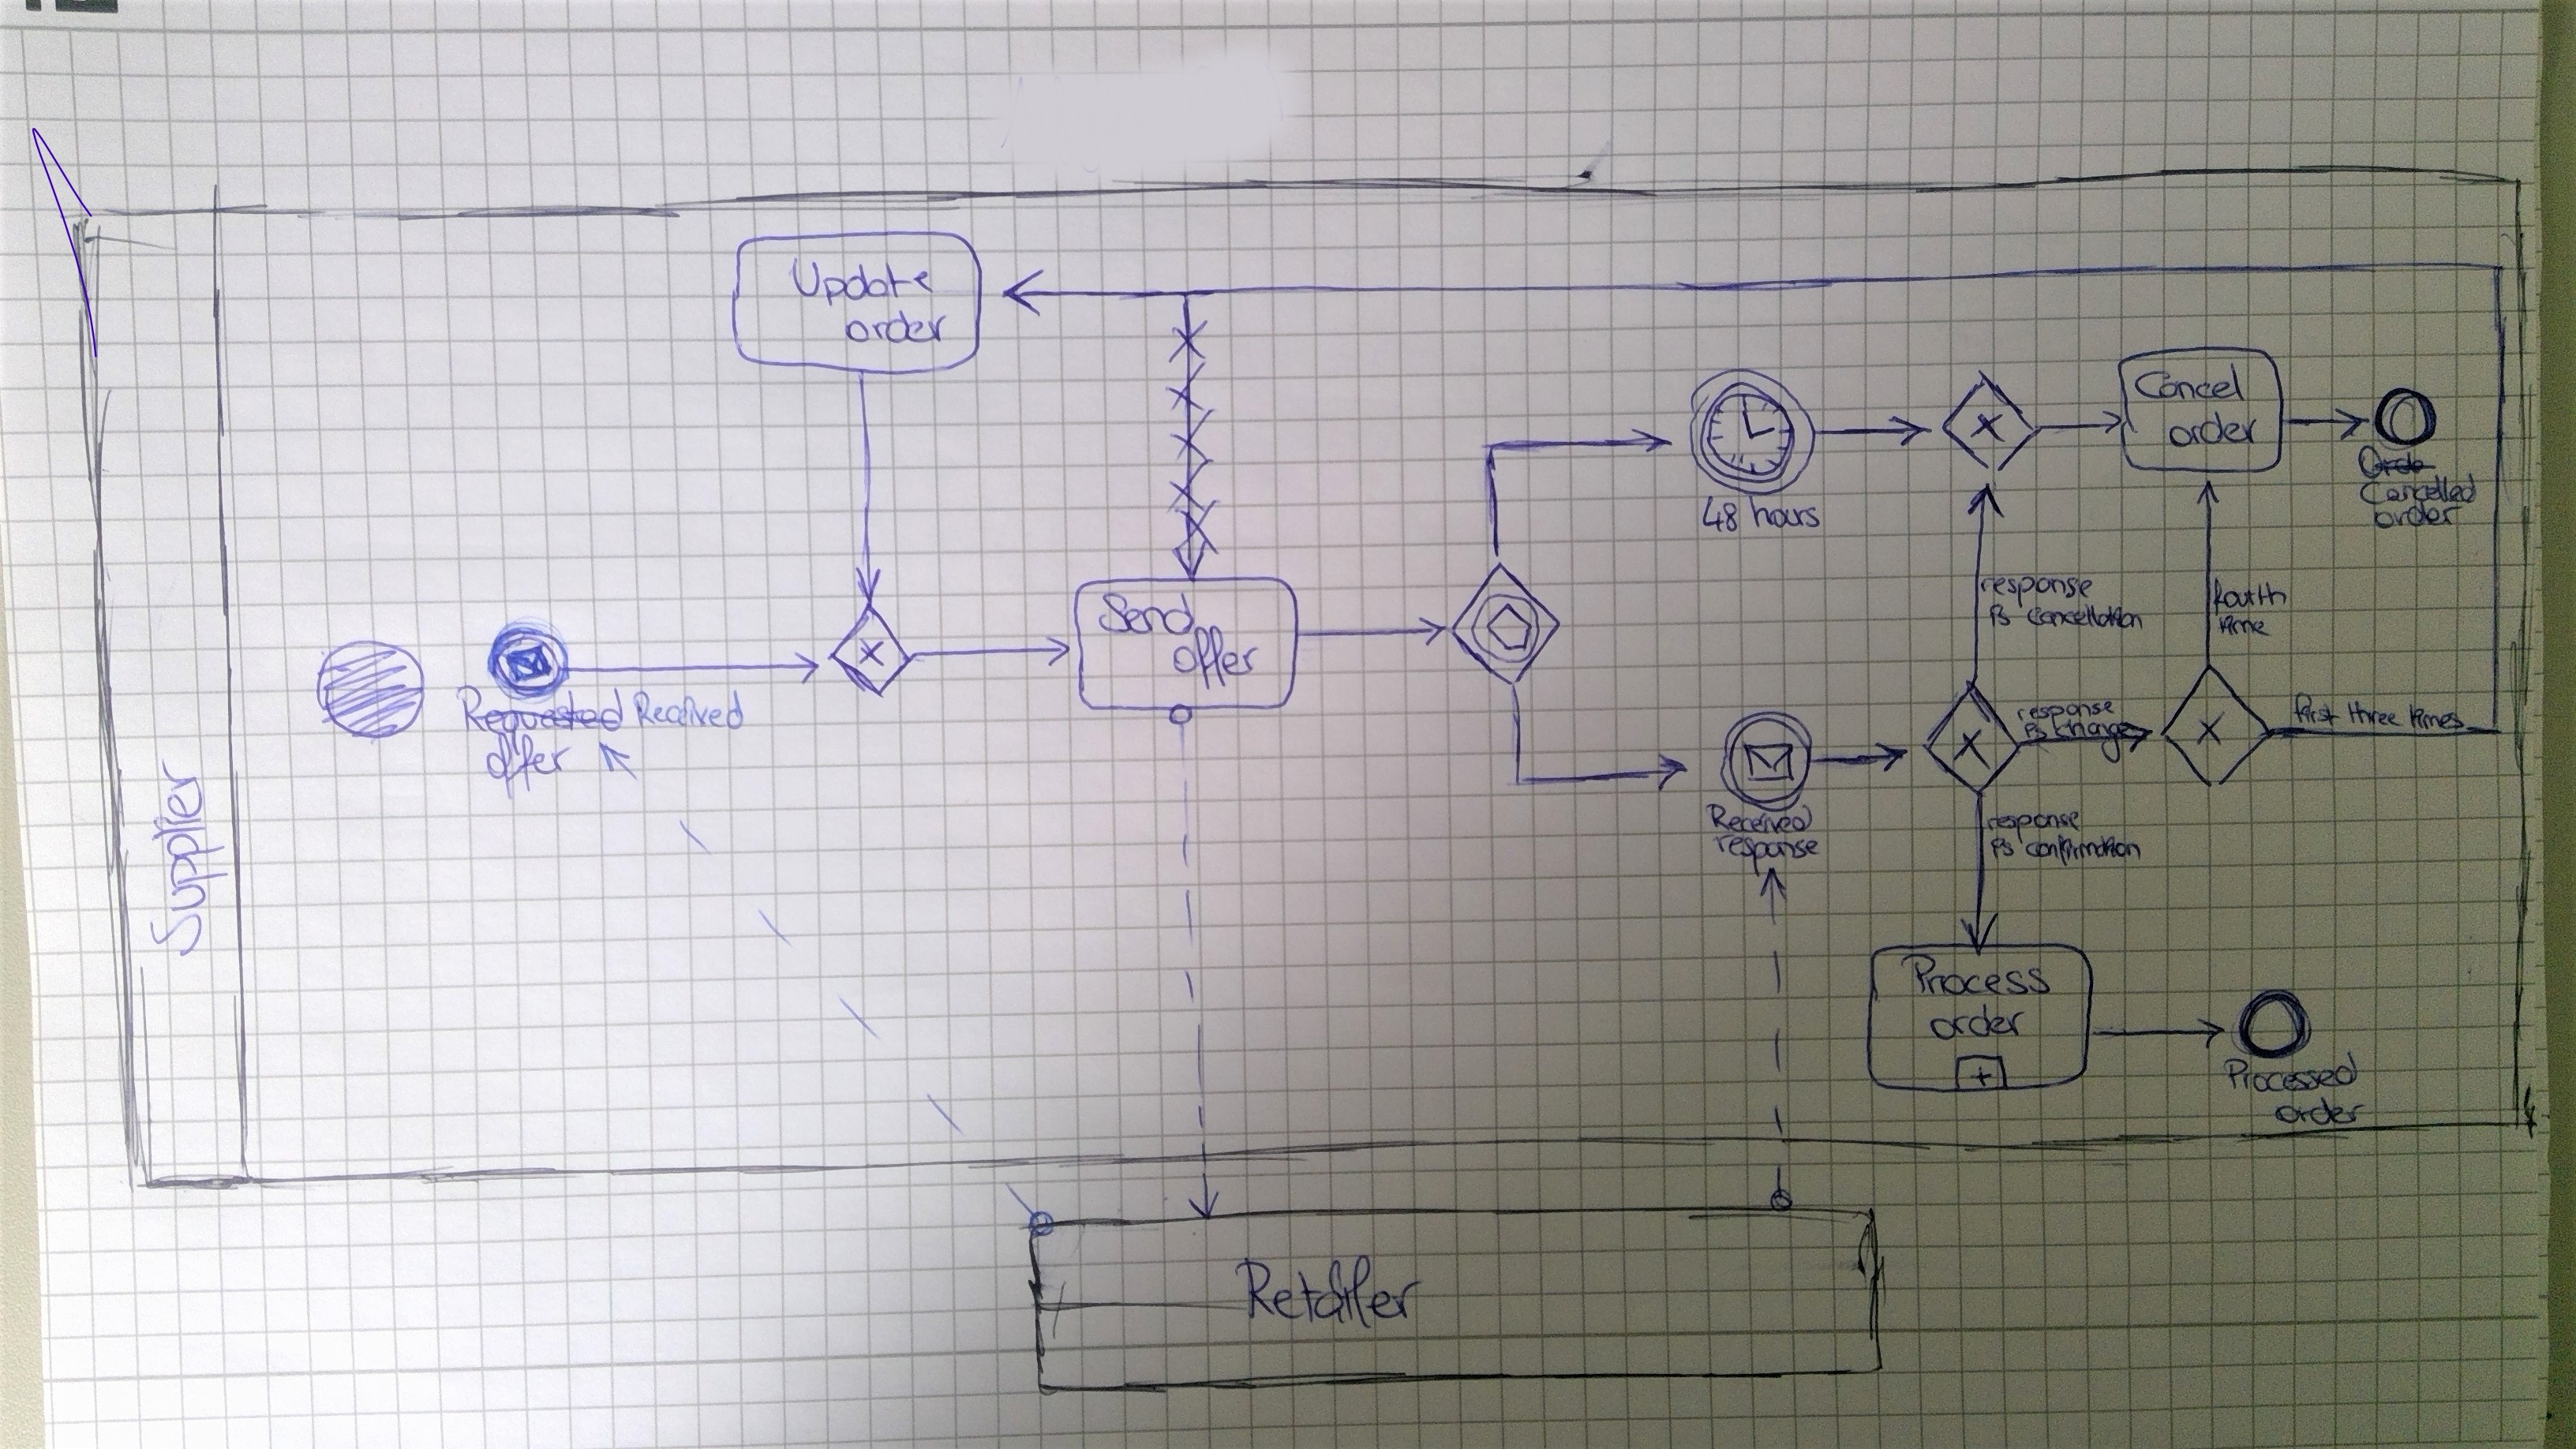48: (1700, 499, 1744, 533)
Cancel: (2137, 364, 2245, 405)
Cancellation: (2028, 603, 2148, 633)
Cancelled: (2357, 476, 2480, 508)
Order: (2281, 1095, 2365, 1131)
Process: (1902, 955, 2051, 1001)
Processed: (2220, 1051, 2358, 1097)
Received: (626, 688, 748, 734), (1711, 805, 1812, 837)
Retailer: (1235, 1258, 1417, 1325)
Send: (1095, 593, 1198, 639)
Supplier: (143, 763, 214, 945)
Update: (798, 249, 932, 306)
change: (2056, 718, 2137, 748)
confirmation: (2024, 835, 2144, 863)
first: (2291, 694, 2335, 727)
fourth: (2206, 579, 2286, 610)
hours: (1755, 499, 1822, 533)
is: (1987, 835, 2020, 863)
offer: (1173, 630, 1261, 688), (483, 738, 573, 787)
order: (847, 310, 955, 349), (1934, 1005, 2029, 1044), (2171, 410, 2261, 449), (2373, 502, 2457, 531)
ps: (2020, 720, 2051, 745)
response: (1978, 571, 2093, 602), (2013, 697, 2114, 725), (1713, 835, 1819, 862), (1985, 809, 2084, 837)
three: (2346, 695, 2403, 731)
time: (2215, 614, 2268, 639)
times: (2399, 701, 2466, 736)
to: (1983, 600, 2013, 633)
